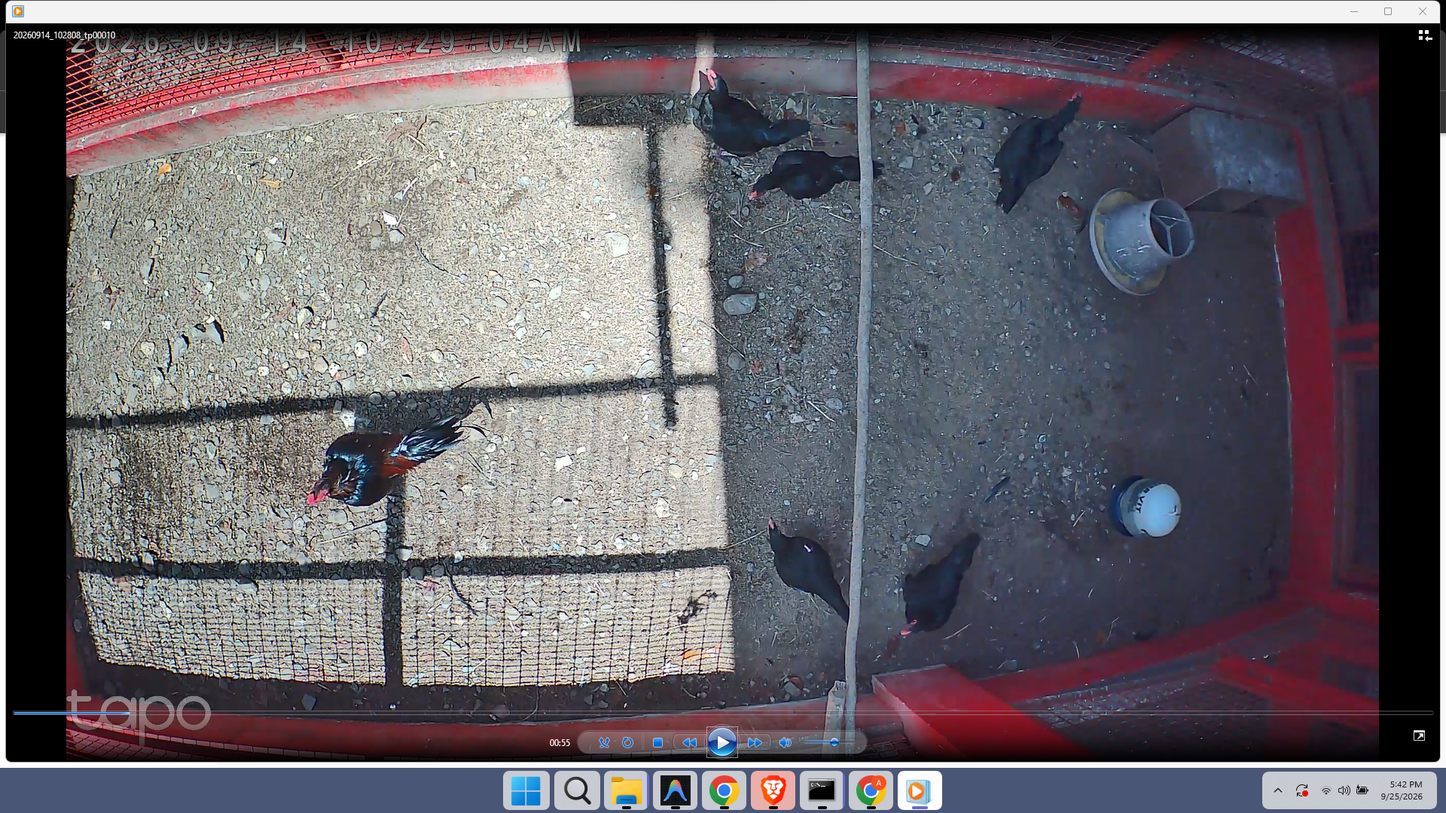Chicken: (688, 63, 817, 163), (987, 86, 1083, 215), (894, 530, 983, 641), (765, 515, 850, 628), (746, 147, 886, 200)
Drinker: (1106, 477, 1182, 540)
Feeder: (1085, 185, 1195, 296)
Rooster: (300, 408, 477, 516)
